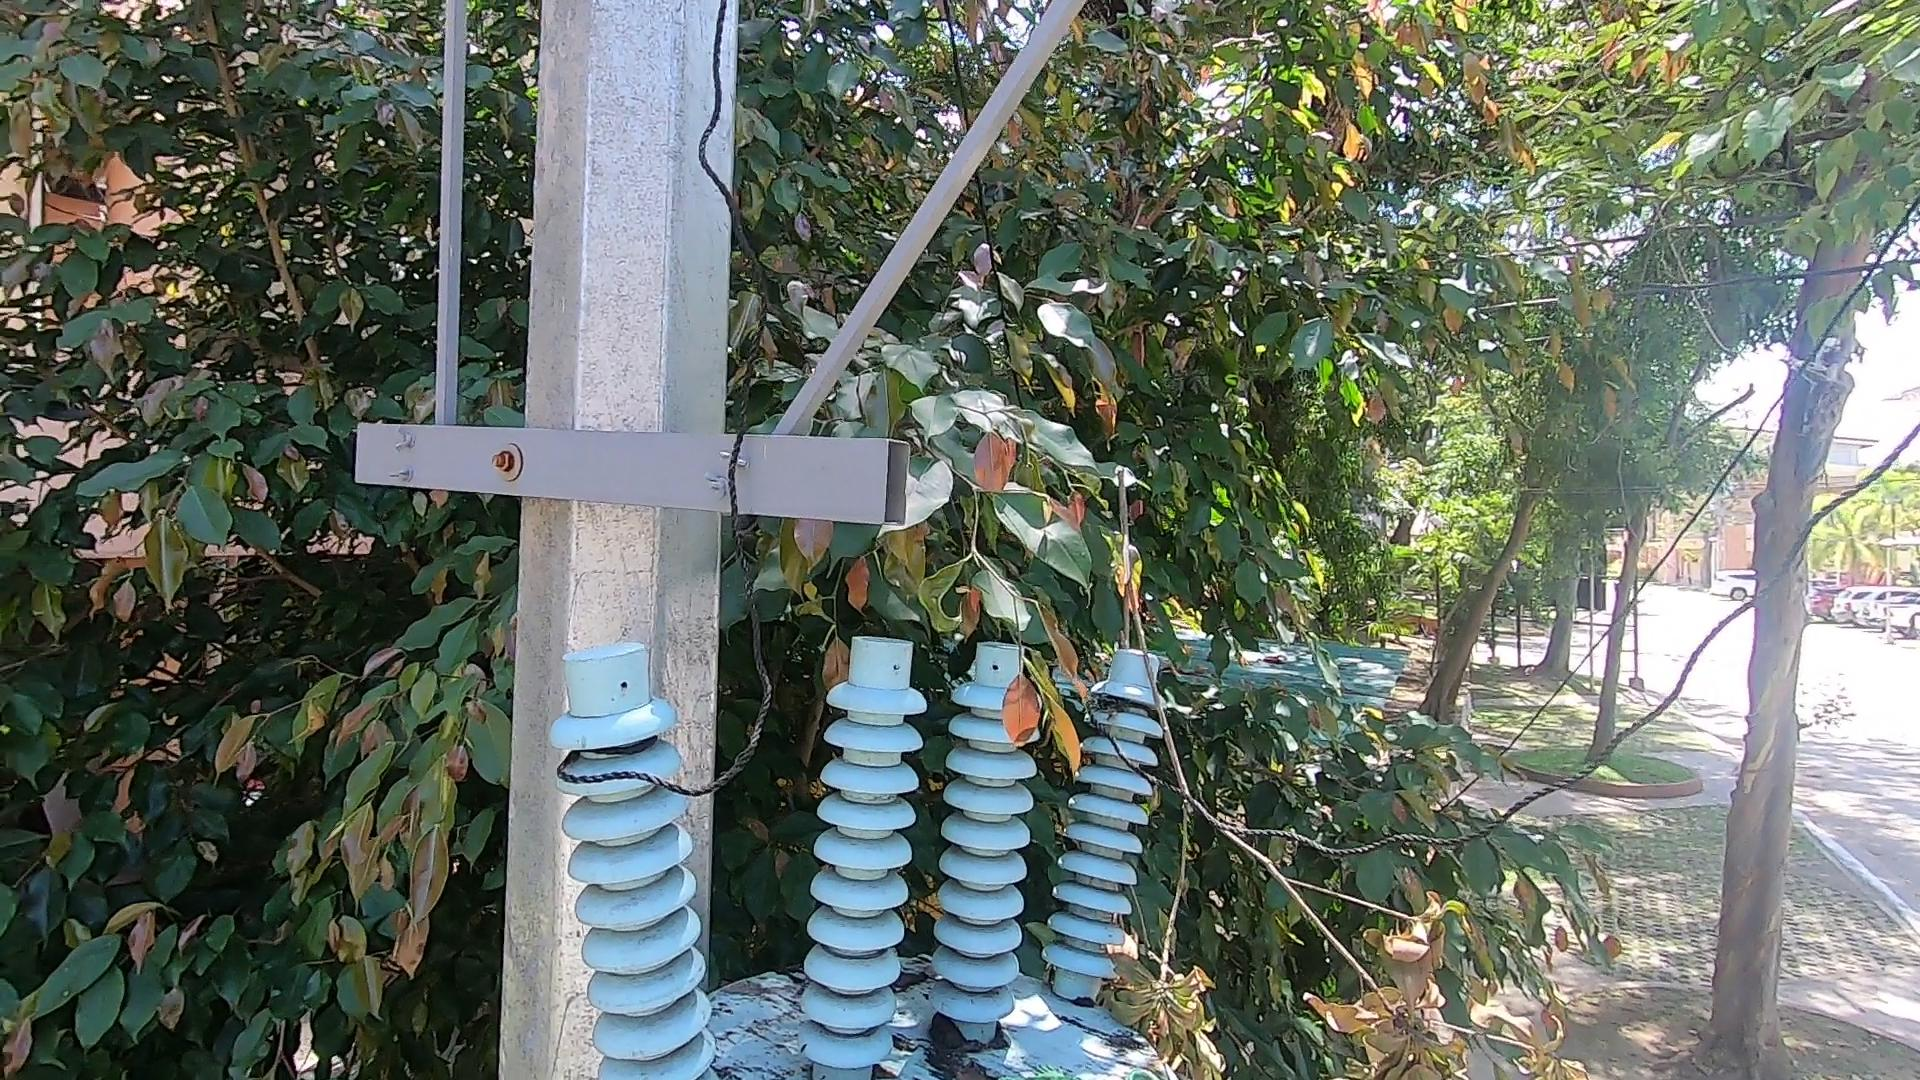branch with leaves: (1095, 429, 1584, 1080)
leaf: (978, 1015, 1044, 1051), (906, 1021, 975, 1048)
